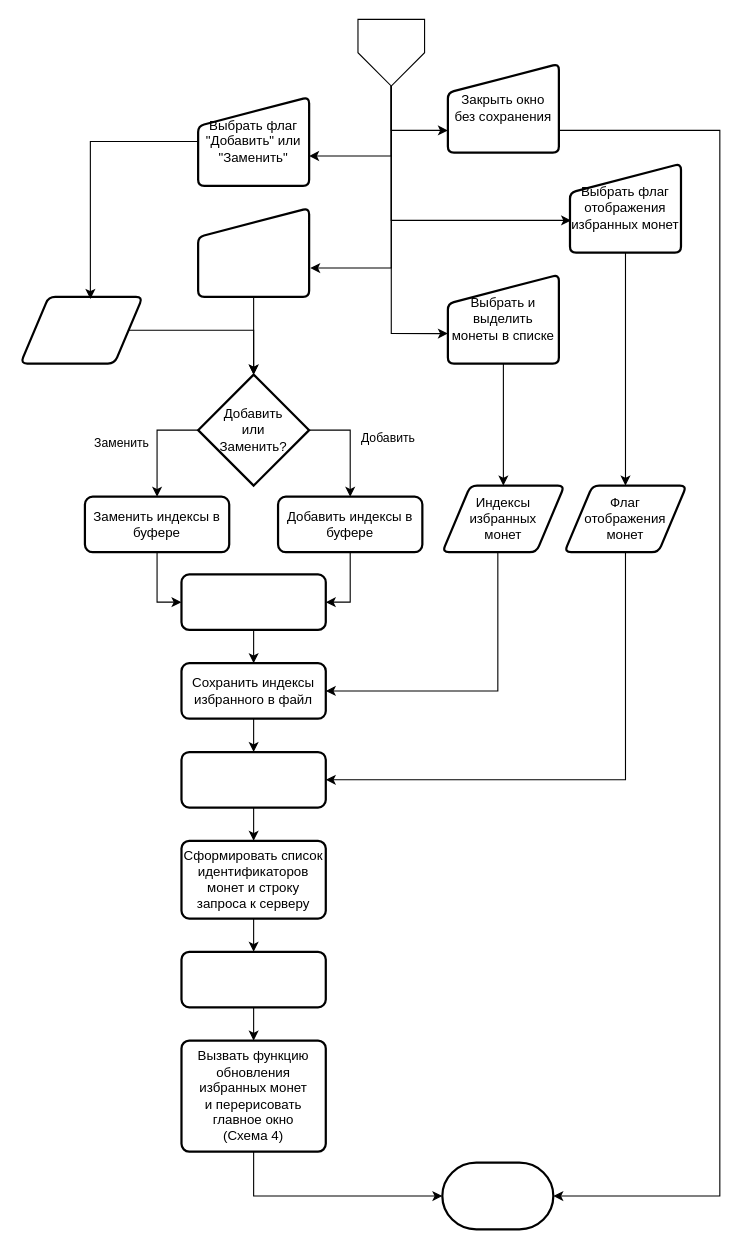
The diagram is 748 pixels wide and 1250 high, and some of its shapes have lost their labels. Each missing label, with the centre of its shape:
Закрыть модальное окно: [253,601]
Нажать кнопку "Сохранить и выйти": [253,251]
Сохранить строку запроса к серверу в файл: [253,979]
Сохранить флаг отображения избранного в файл: [253,779]
Схема 2 Стоп: [497,1195]
Флаг Добавления / Замены: [81,329]
